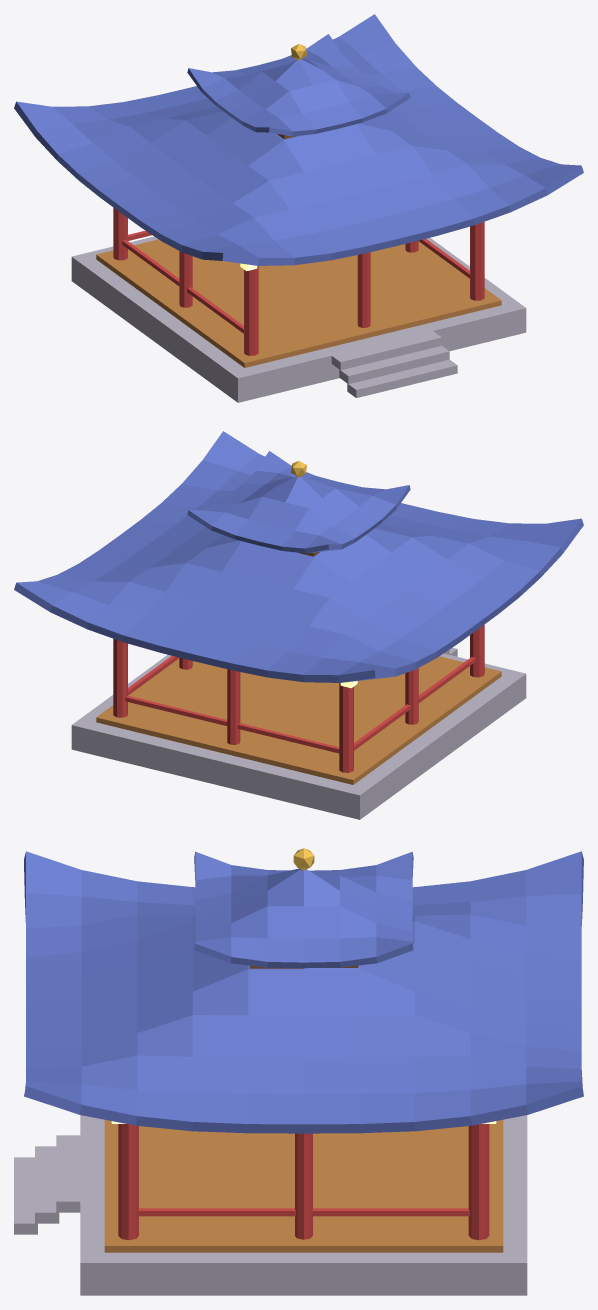
The model's file is pavilion.glb.
3 views of the same model, one above another, from view 1: azimuth 30°, elevation 25°; view 2: azimuth 150°, elevation 25°; view 3: azimuth 270°, elevation 25° (orthographic). The views are drawn at different scales.
Visible parts, largest first — view 1: pavilion; view 2: pavilion; view 3: pavilion.
Boxes of the visible parts, left/top/right/bottom form: pavilion: left=14, top=14, right=583, bottom=402; pavilion: left=14, top=431, right=583, bottom=819; pavilion: left=14, top=848, right=583, bottom=1295.
Bounding box in the file's own units: 9.27 × 6.45 × 9.44.
